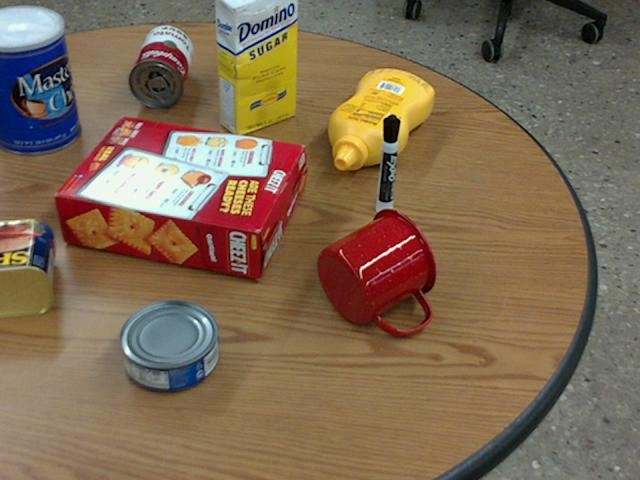cracker_box: (56, 116, 303, 278)
large_marker: (377, 114, 399, 214)
master_chef_can: (0, 6, 80, 153)
mug: (317, 208, 437, 334)
mustard_bottle: (328, 70, 433, 170)
potted_meat_can: (0, 217, 53, 316)
sugar_box: (215, 0, 297, 136)
tomato_soup_can: (128, 25, 191, 107)
tuna_fish_can: (118, 299, 216, 391)
